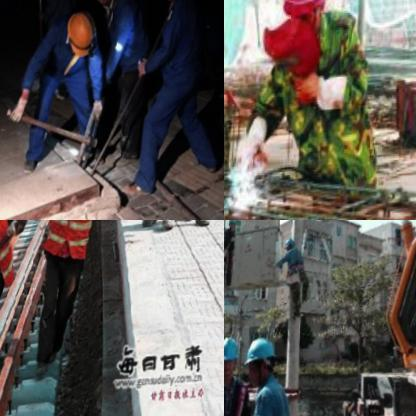helmet: (276, 0, 333, 48), (243, 340, 278, 392), (65, 12, 99, 65), (224, 338, 241, 384), (86, 0, 119, 15), (282, 240, 300, 263), (227, 220, 239, 239)
